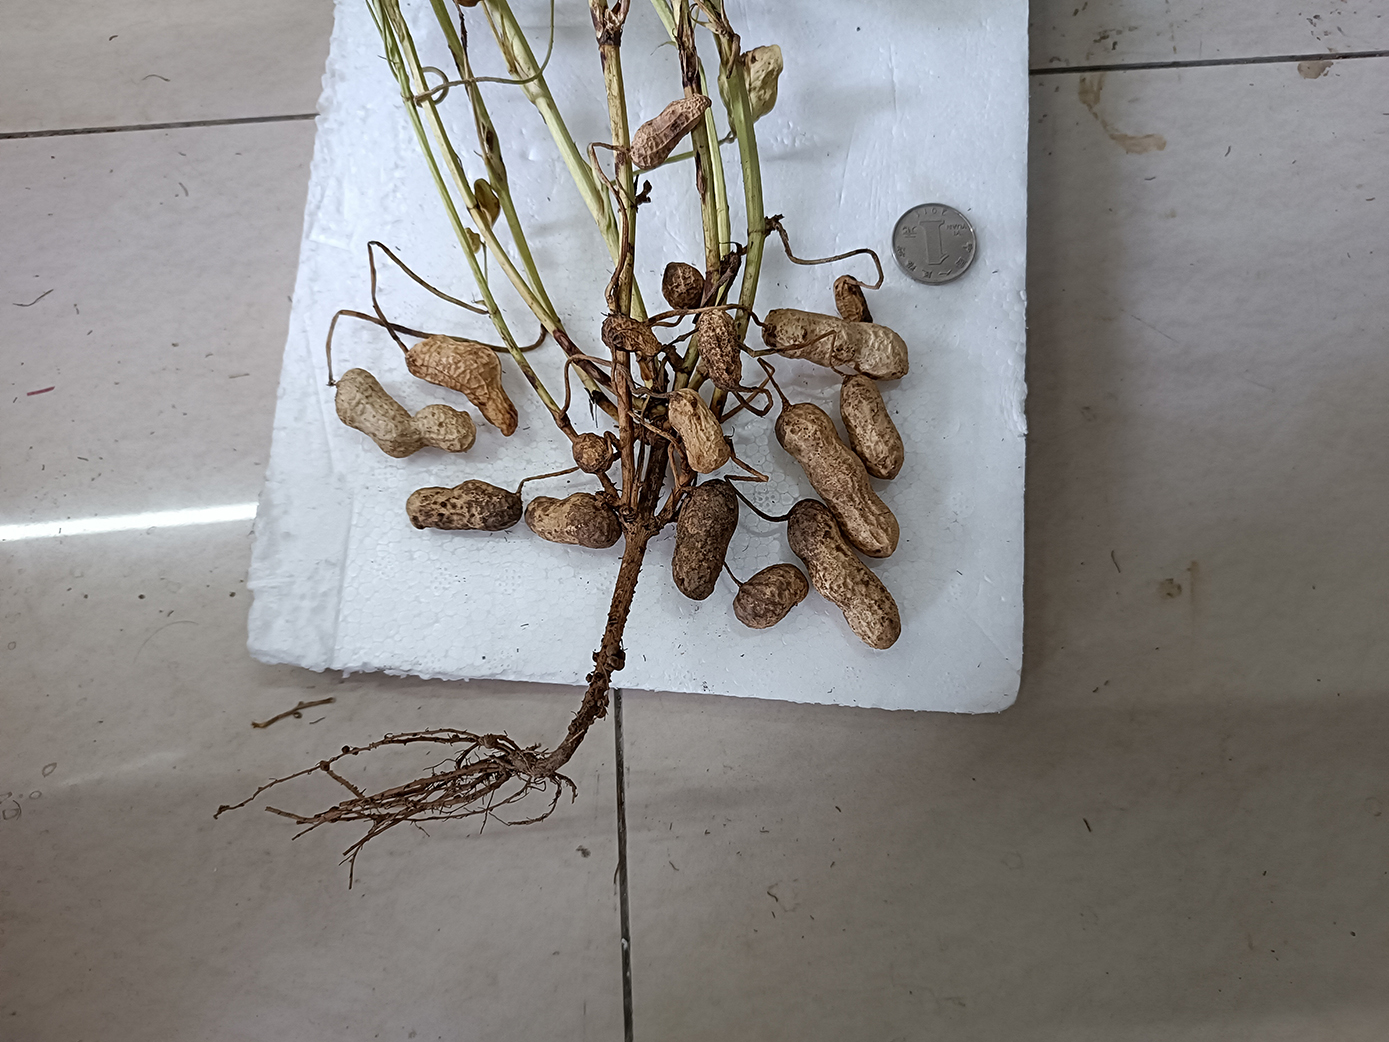h: (777, 401, 899, 559), (786, 498, 903, 648), (334, 369, 474, 458), (403, 337, 523, 439), (762, 311, 910, 379), (843, 377, 906, 478), (627, 94, 711, 169), (525, 493, 620, 549), (665, 391, 730, 470), (732, 564, 809, 629), (601, 316, 659, 386), (695, 309, 744, 389), (662, 262, 705, 312), (831, 276, 872, 324), (571, 432, 614, 473)
l: (671, 478, 738, 601), (405, 479, 521, 533)
